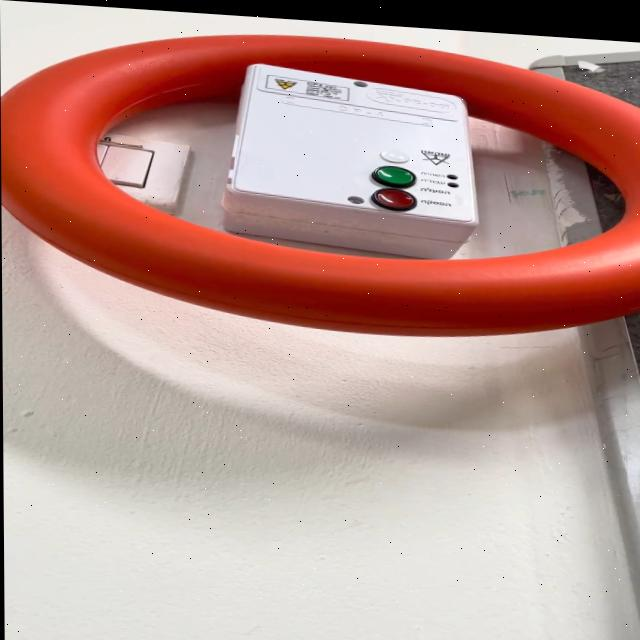note: (2, 15, 640, 345)
